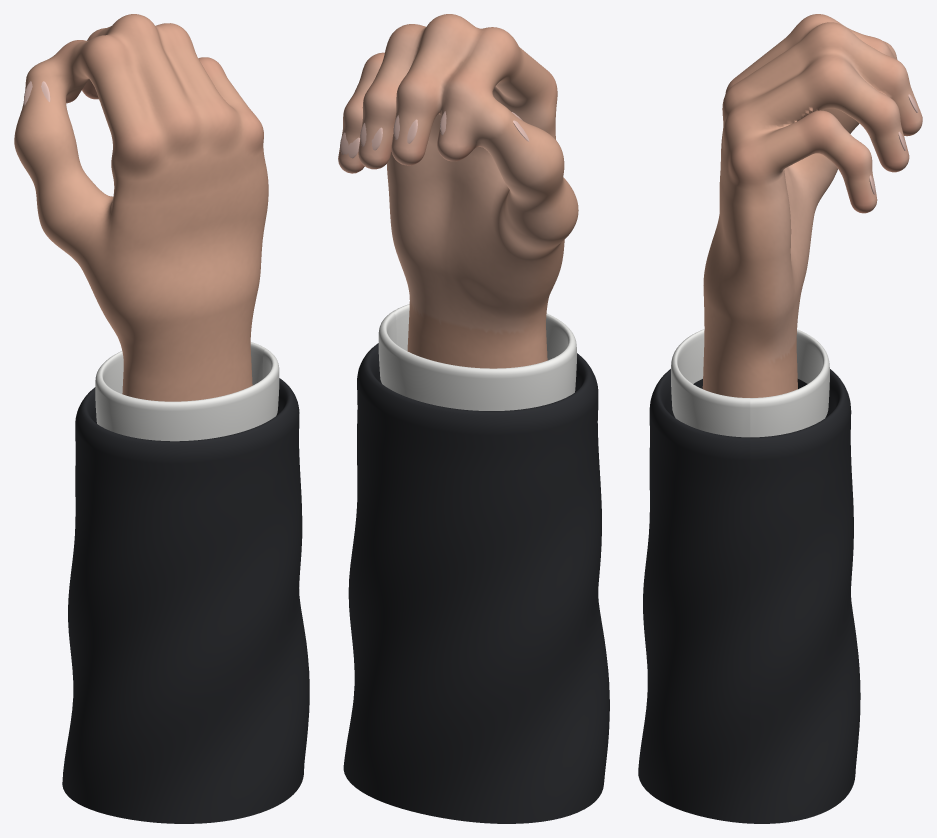
The model's file is hand.glb.
3 renders of one model, left to right at view 1: azimuth 30°, elevation 25°; view 2: azimuth 150°, elevation 25°; view 3: azimuth 270°, elevation 25°, orthographic. The views are drawn at different scales.
Parts seen in each view (by area): view 1: sleeve, hand, cuff; view 2: sleeve, hand, cuff, nails; view 3: sleeve, hand, cuff.
Part boxes in pixels (x1,y1,x2,y2): sleeve: (62,378,309,823); hand: (14,14,268,401); cuff: (95,342,279,441); sleeve: (343,343,609,823); hand: (338,14,578,368); cuff: (378,304,576,410); nails: (340,111,529,158); sleeve: (638,369,860,823); hand: (702,14,922,397); cuff: (671,329,829,437).
Bounding box in the file's own units: 0.1174 × 0.3572 × 0.1245.
